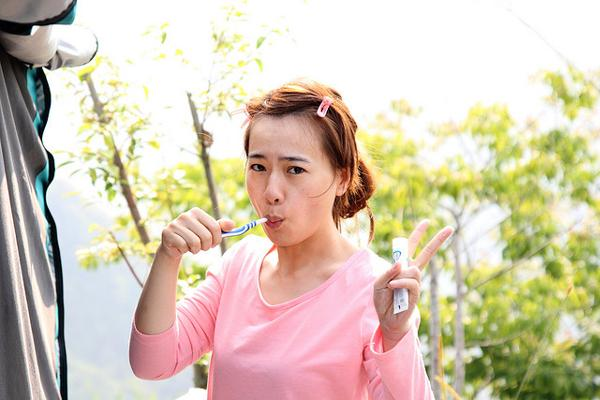person: (131, 81, 454, 400)
